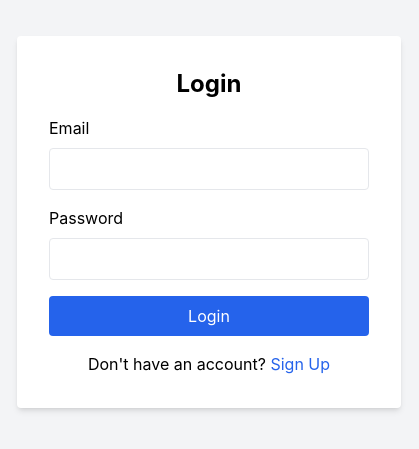
Test: LoginPage › shows error message on invalid login
In the field labelled "Email": (209, 169) [49, 148, 369, 190], type "invalid@reqres.in"
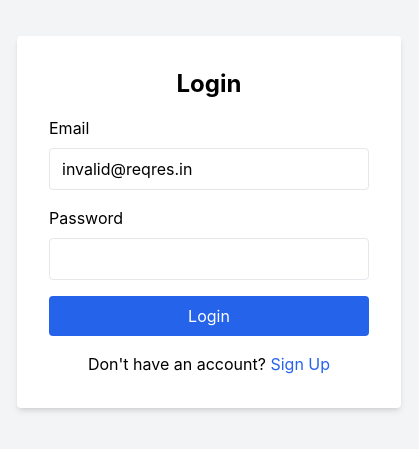
In the password field labelled "Password": (209, 259) [49, 238, 369, 280], type "wrongpassword"
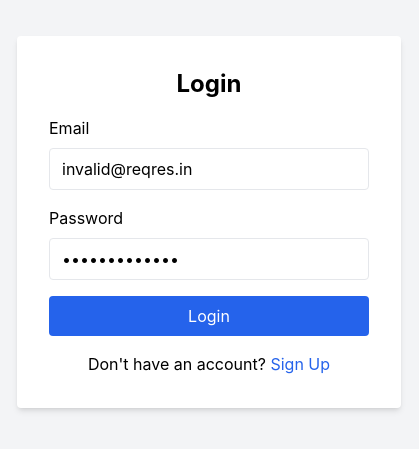
Click the button "Login": (209, 316) [49, 296, 369, 336]
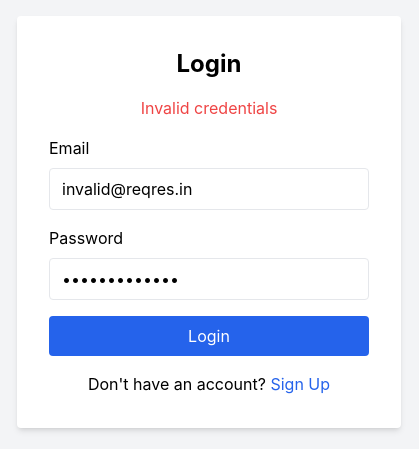
Now the text "Invalid credentials" is shown, box [141, 98, 277, 118]
